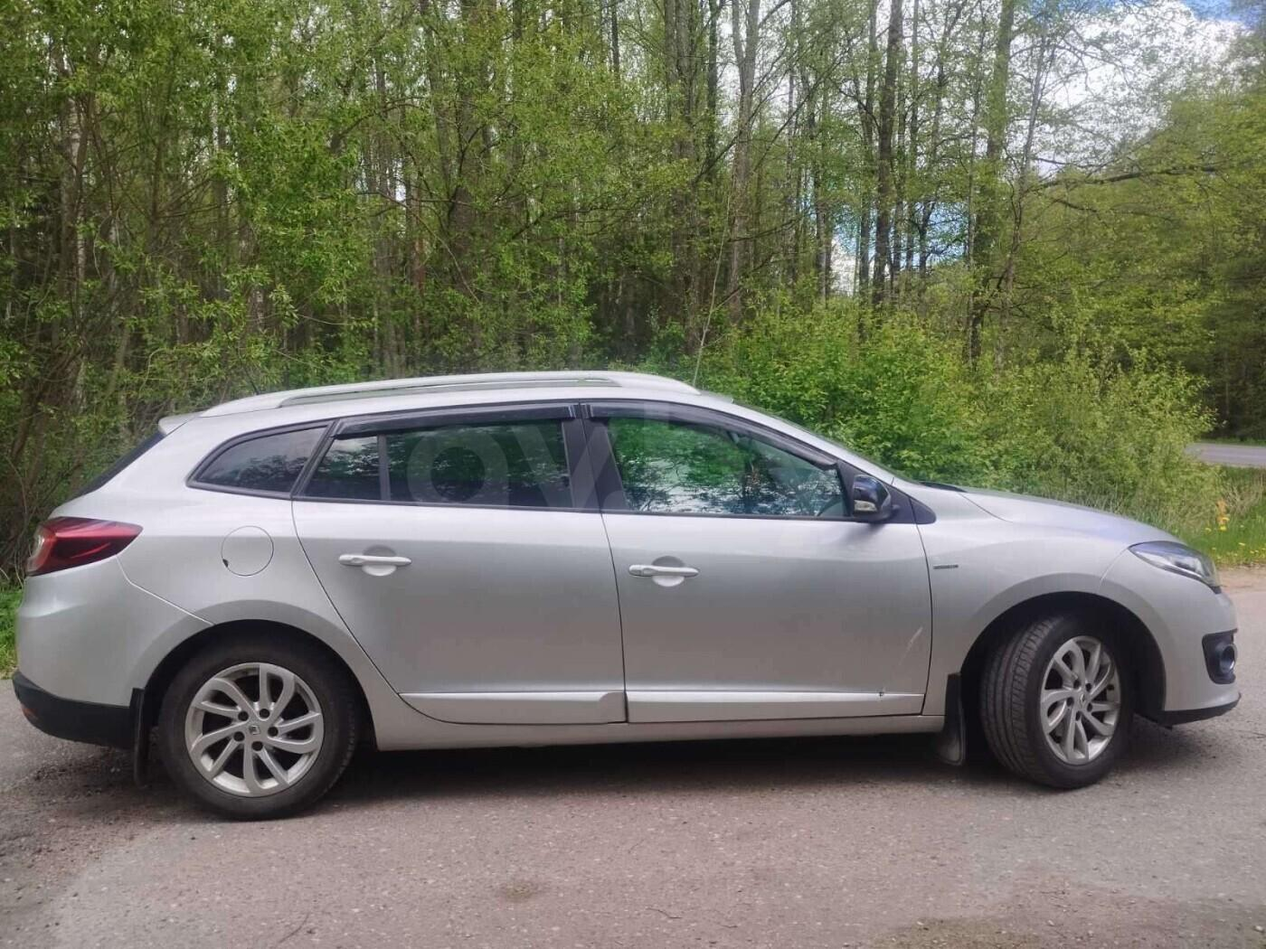Megane_2014-2016: (5, 371, 1234, 813)
